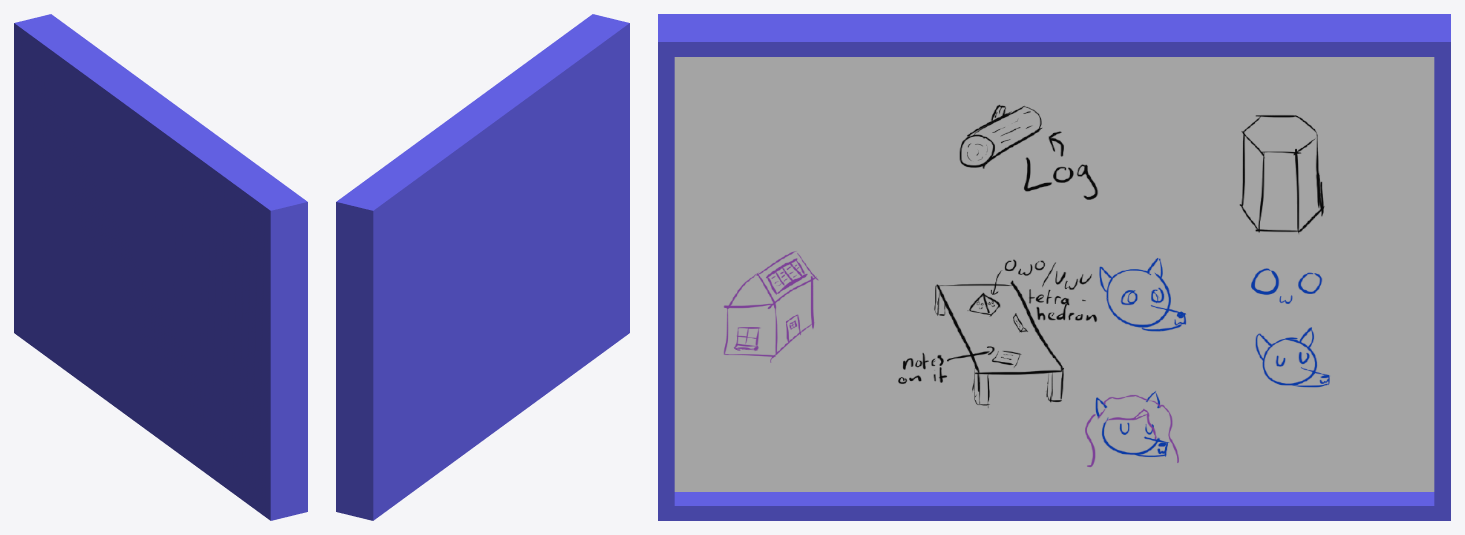
File: 3x2_doodles.fbx
3 views of the same model, side by side, from view 1: azimuth 30°, elevation 25°; view 2: azimuth 150°, elevation 25°; view 3: azimuth 270°, elevation 25° (orthographic). The views are drawn at different scales.
Parts seen in each view (by area): view 1: Cube; view 2: Cube; view 3: Cube.
Boxes of the visible parts, bbox=[...] form: Cube: bbox=[14, 14, 307, 520]; Cube: bbox=[336, 14, 629, 520]; Cube: bbox=[658, 14, 1450, 520].
Bounding box in the file's own units: 25 × 200 × 300.
